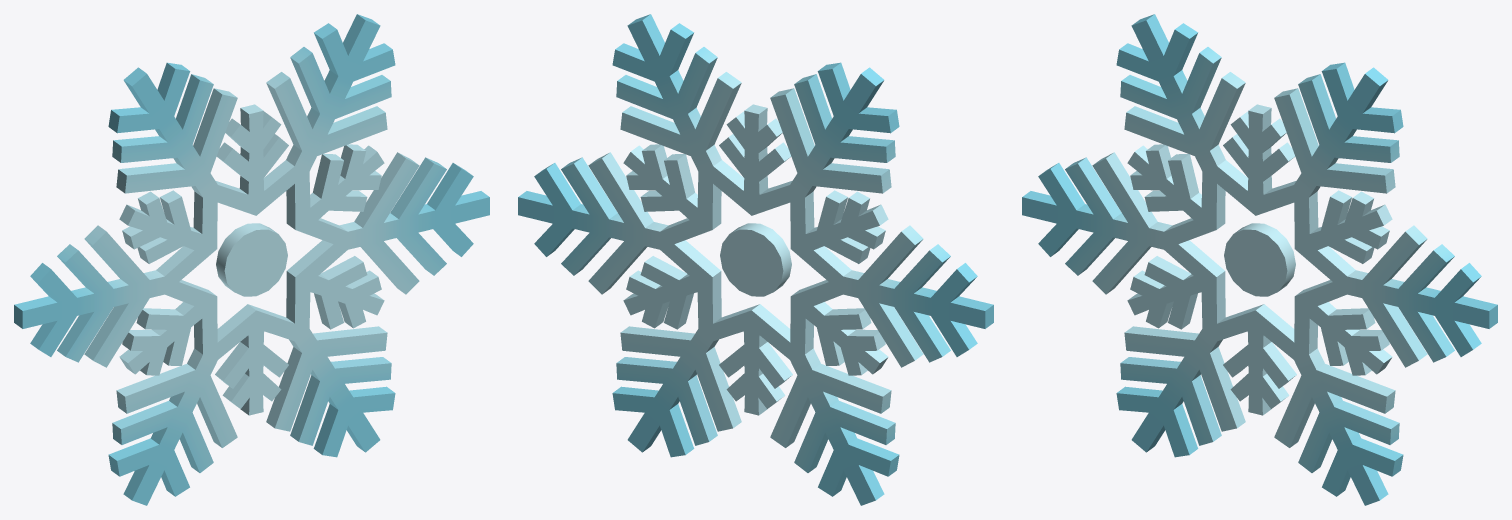
File: snowflake_003.fbx
The picture shows the model from 3 angles, left to right: view 1: azimuth 30°, elevation 25°; view 2: azimuth 150°, elevation 25°; view 3: azimuth 330°, elevation 25°; orthographic projection.
Visible parts, largest first — view 1: snowflake_003; view 2: snowflake_003; view 3: snowflake_003.
Part boxes in pixels (x1,y1,x2,y2): snowflake_003: [14, 14, 489, 505]; snowflake_003: [518, 14, 993, 505]; snowflake_003: [1022, 14, 1497, 505].
Bounding box in the file's own units: 637 × 20.48 × 564.
